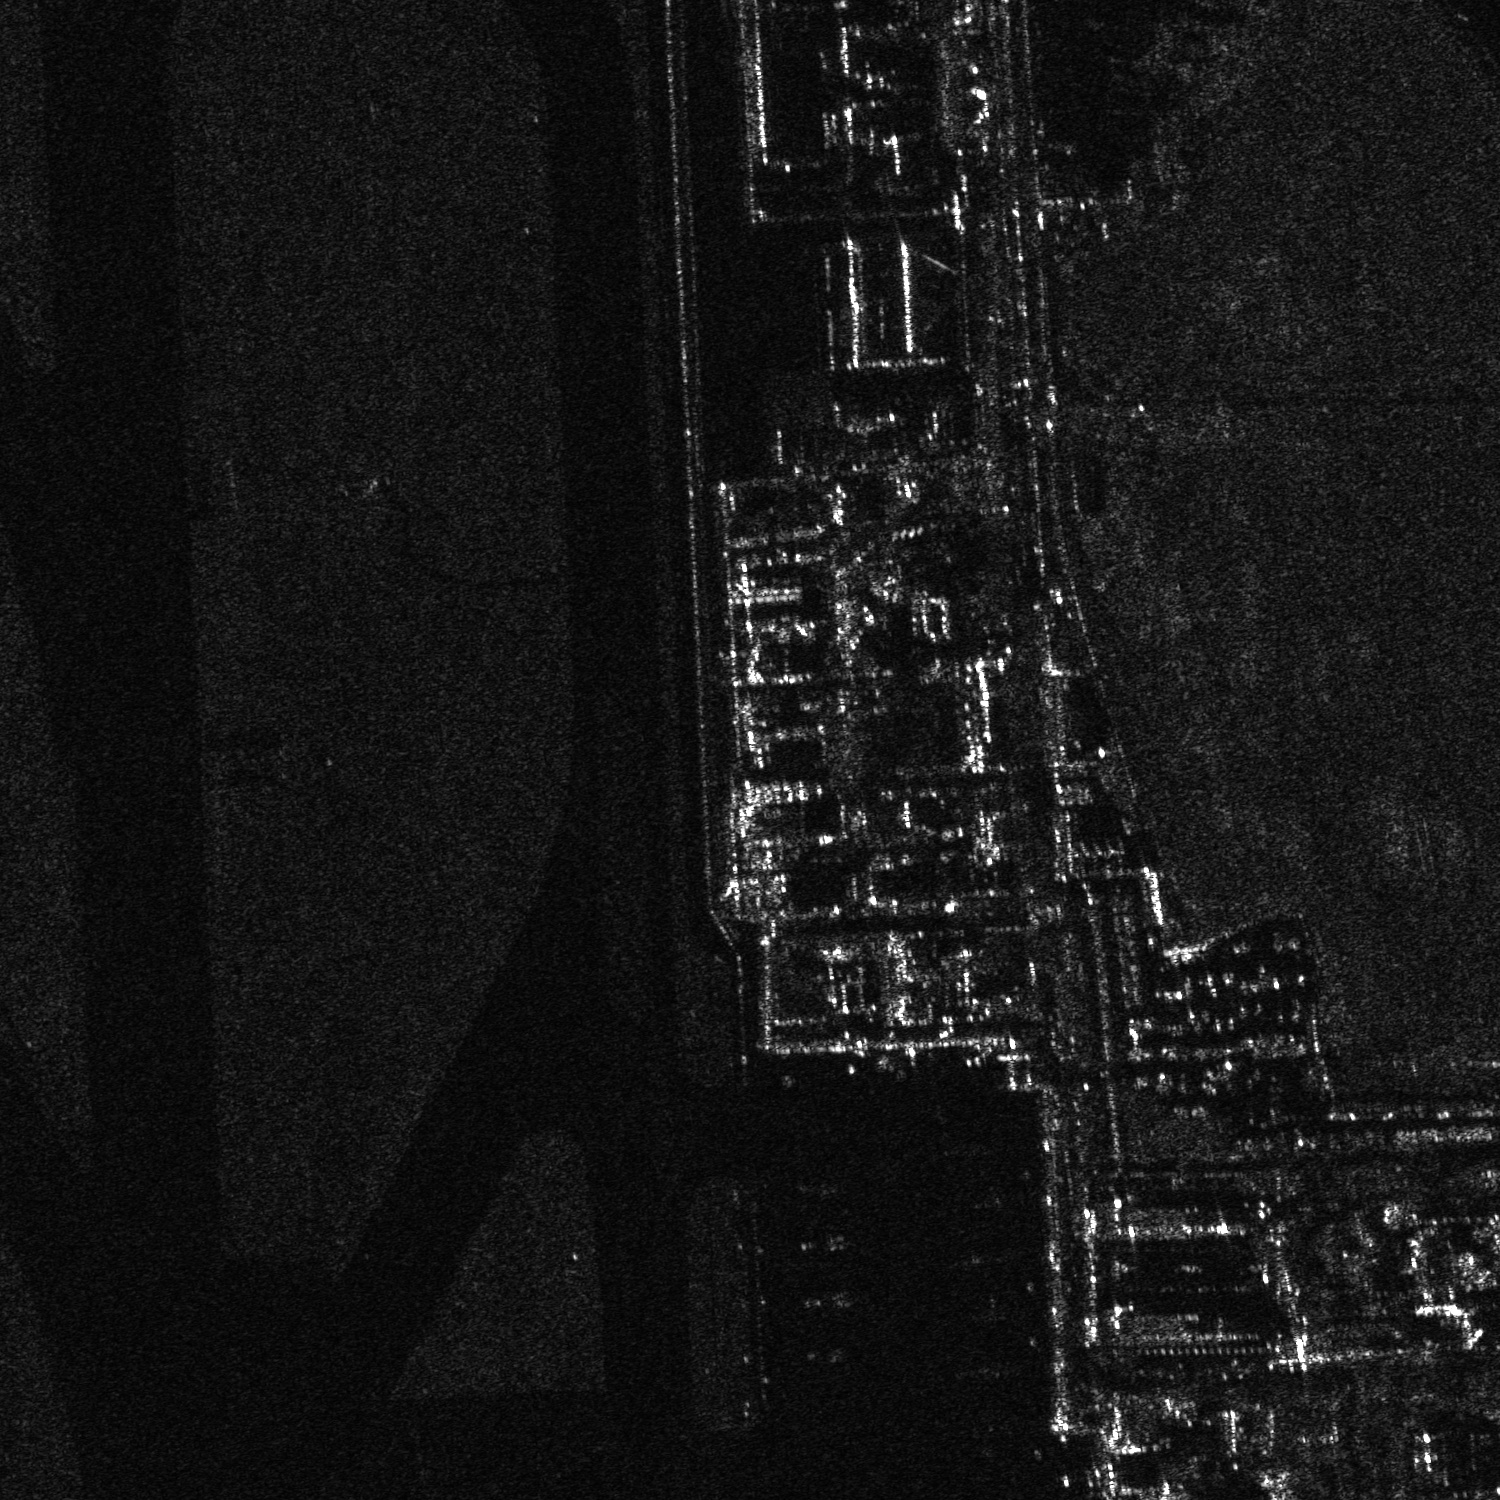ARJ21: (793, 1287, 863, 1316), (801, 1341, 854, 1370)
other: (795, 1225, 857, 1260)
